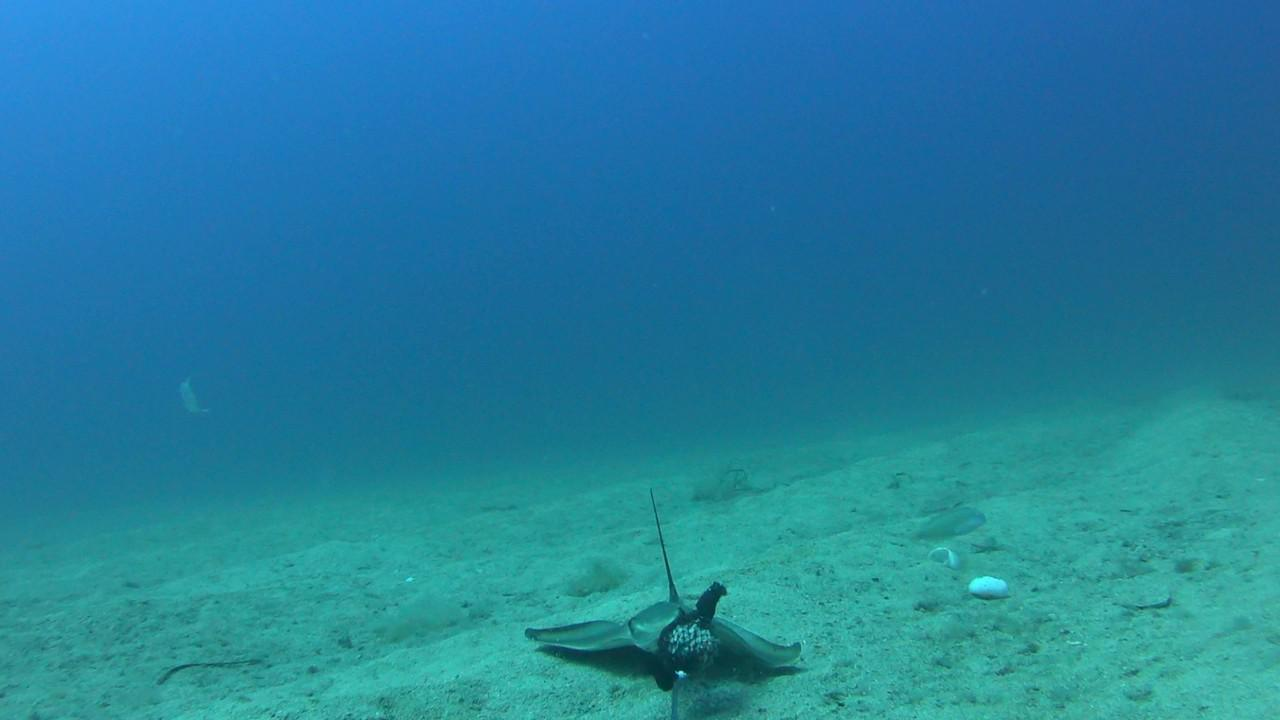balistes: (180, 376, 213, 416)
myliobatis: (521, 487, 825, 679)
raor: (902, 507, 989, 543)
